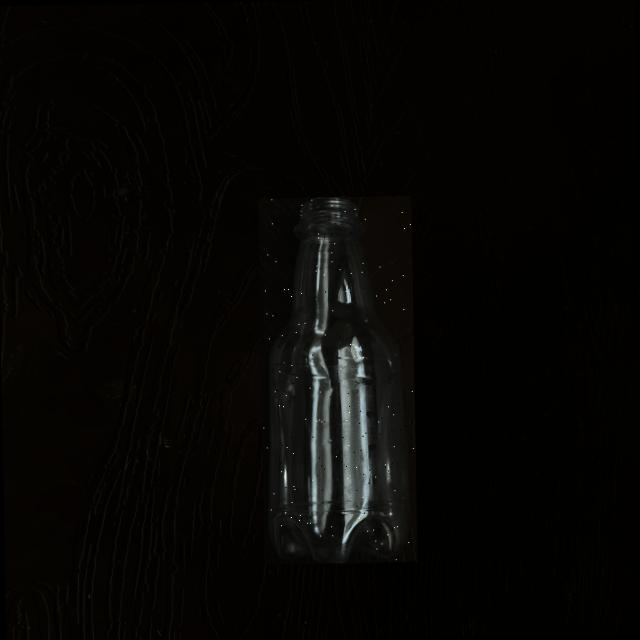PET_ClearBottle: (258, 195, 417, 564)
